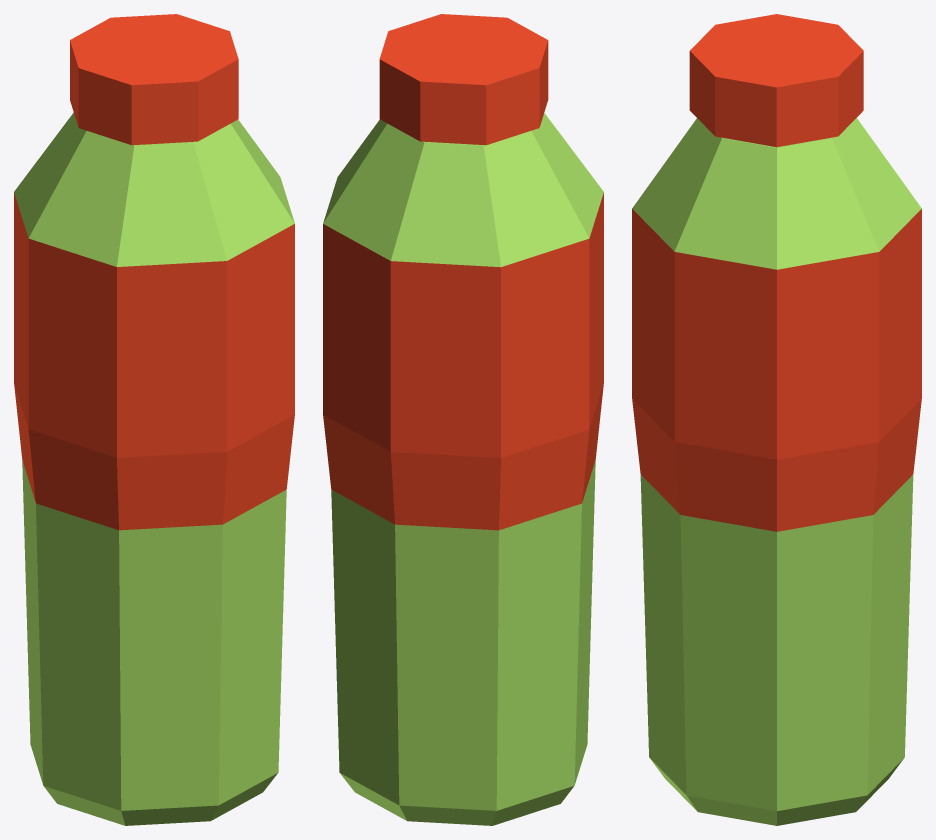
File: SM_Drink_Soda_City.fbx
The picture shows the model from 3 angles, left to right: view 1: azimuth 30°, elevation 25°; view 2: azimuth 150°, elevation 25°; view 3: azimuth 270°, elevation 25°; orthographic projection.
Visible parts, largest first — view 1: SM_Drink_Soda_City; view 2: SM_Drink_Soda_City; view 3: SM_Drink_Soda_City.
Part boxes in pixels (x1,y1,x2,y2): SM_Drink_Soda_City: (14,14,294,825); SM_Drink_Soda_City: (323,14,603,825); SM_Drink_Soda_City: (632,14,921,825).
Bounding box in the file's own units: 0.1022 × 0.2833 × 0.1022.
